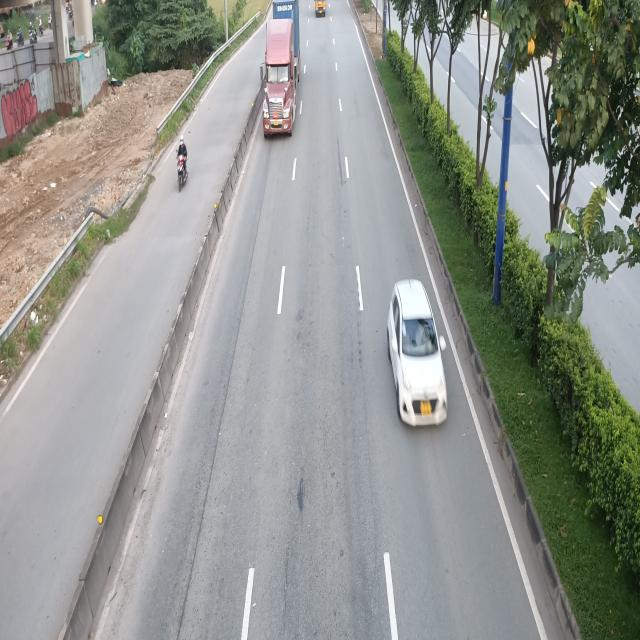car: (388, 280, 449, 428)
container: (262, 0, 302, 138)
